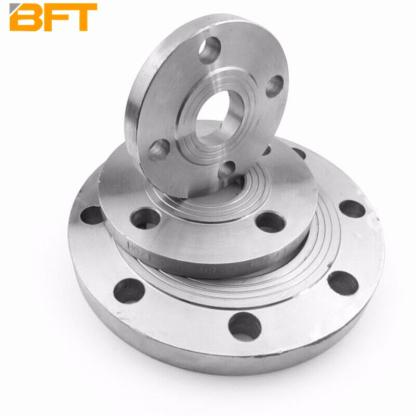FOD: (65, 126, 390, 378), (94, 122, 324, 272), (117, 13, 295, 193)
